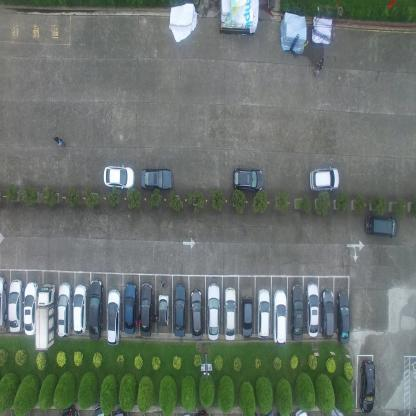car: (34, 282, 55, 351), (358, 359, 376, 413), (7, 277, 24, 334), (88, 278, 103, 341), (308, 164, 340, 193), (232, 165, 264, 194), (102, 162, 135, 190), (272, 289, 288, 346), (23, 279, 39, 336), (107, 287, 122, 347), (364, 213, 398, 239), (140, 166, 173, 192), (305, 281, 320, 338), (57, 281, 72, 338), (206, 282, 220, 341), (290, 283, 304, 342), (223, 284, 237, 342), (139, 282, 153, 340), (320, 287, 335, 339), (336, 289, 350, 344), (123, 281, 137, 334), (173, 281, 186, 337), (73, 283, 87, 335), (257, 287, 270, 340), (240, 294, 254, 341), (190, 287, 202, 339), (0, 274, 7, 331), (157, 294, 169, 327), (59, 404, 77, 415), (94, 403, 108, 415), (112, 405, 127, 415), (294, 405, 309, 415)
